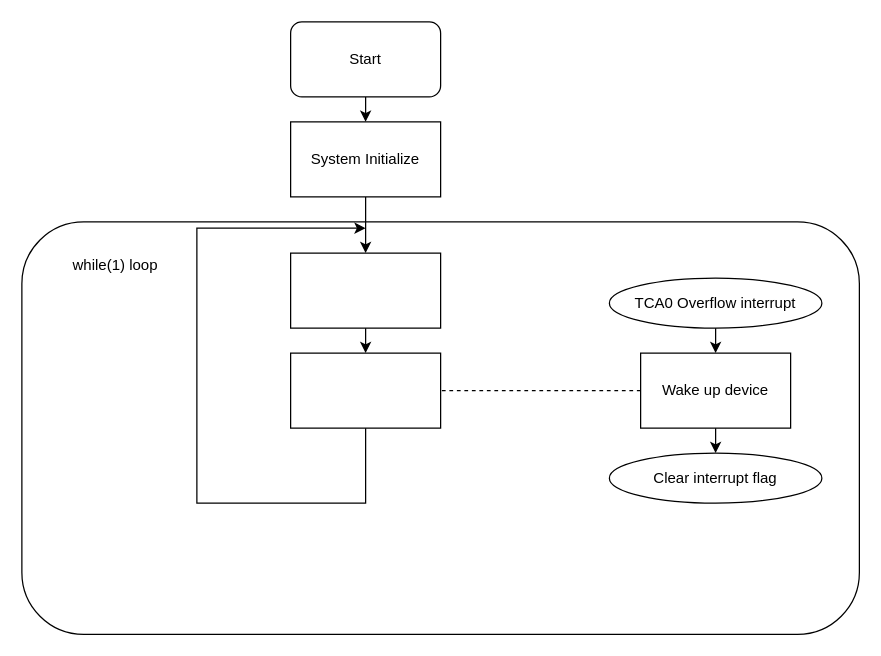
This 881x656 diagram has some shape labels left out. Each missing label, with the box of its shape:
Sleep: (289, 252, 441, 328)
Toggle LED: (289, 352, 441, 428)
